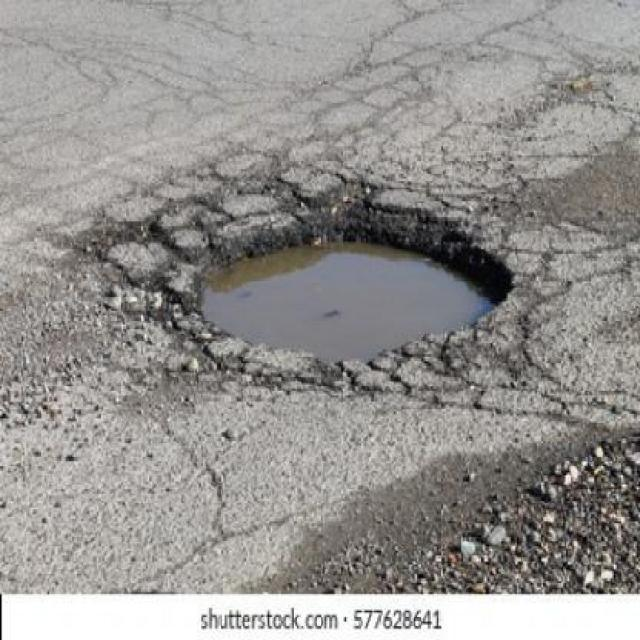Buraco: (69, 195, 517, 368)
